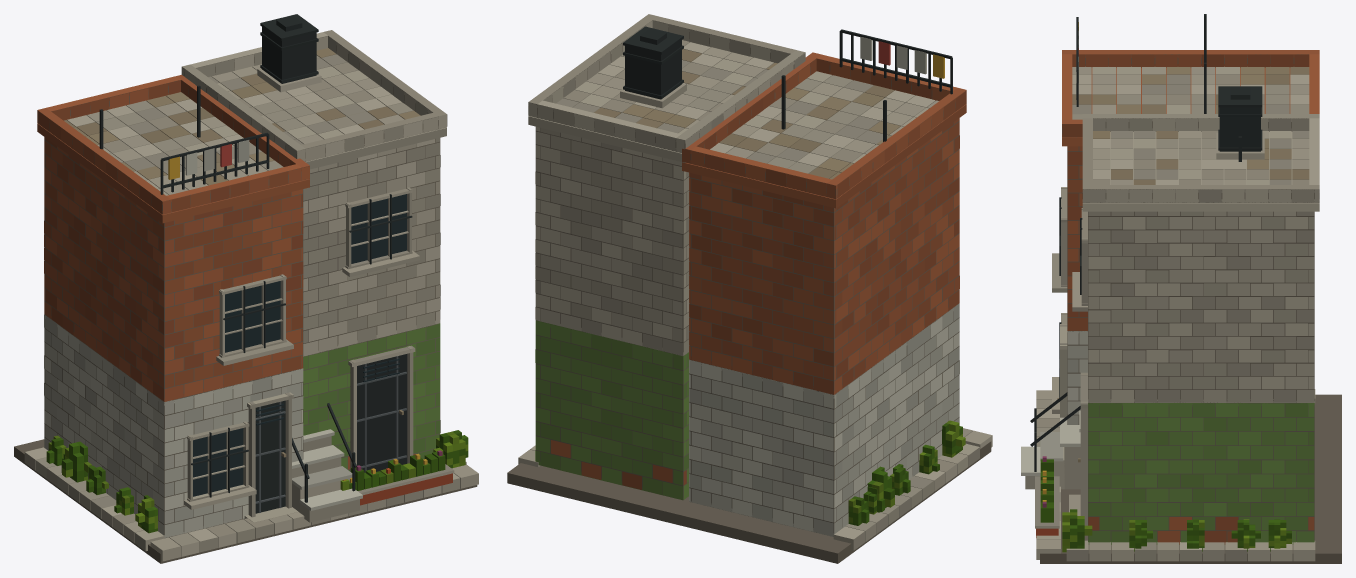
Rendered from SM_Mapa_065.fbx.
3 views of the same model, side by side, from view 1: azimuth 30°, elevation 25°; view 2: azimuth 150°, elevation 25°; view 3: azimuth 270°, elevation 25° (orthographic). The views are drawn at different scales.
Parts seen in each view (by area): view 1: SM_Mapa_065; view 2: SM_Mapa_065; view 3: SM_Mapa_065.
Part boxes in pixels (x1,y1,x2,y2): SM_Mapa_065: (14,14,478,563); SM_Mapa_065: (507,14,992,563); SM_Mapa_065: (1021,14,1341,563).
Bounding box in the file's own units: 8 × 6.67 × 9.81.
